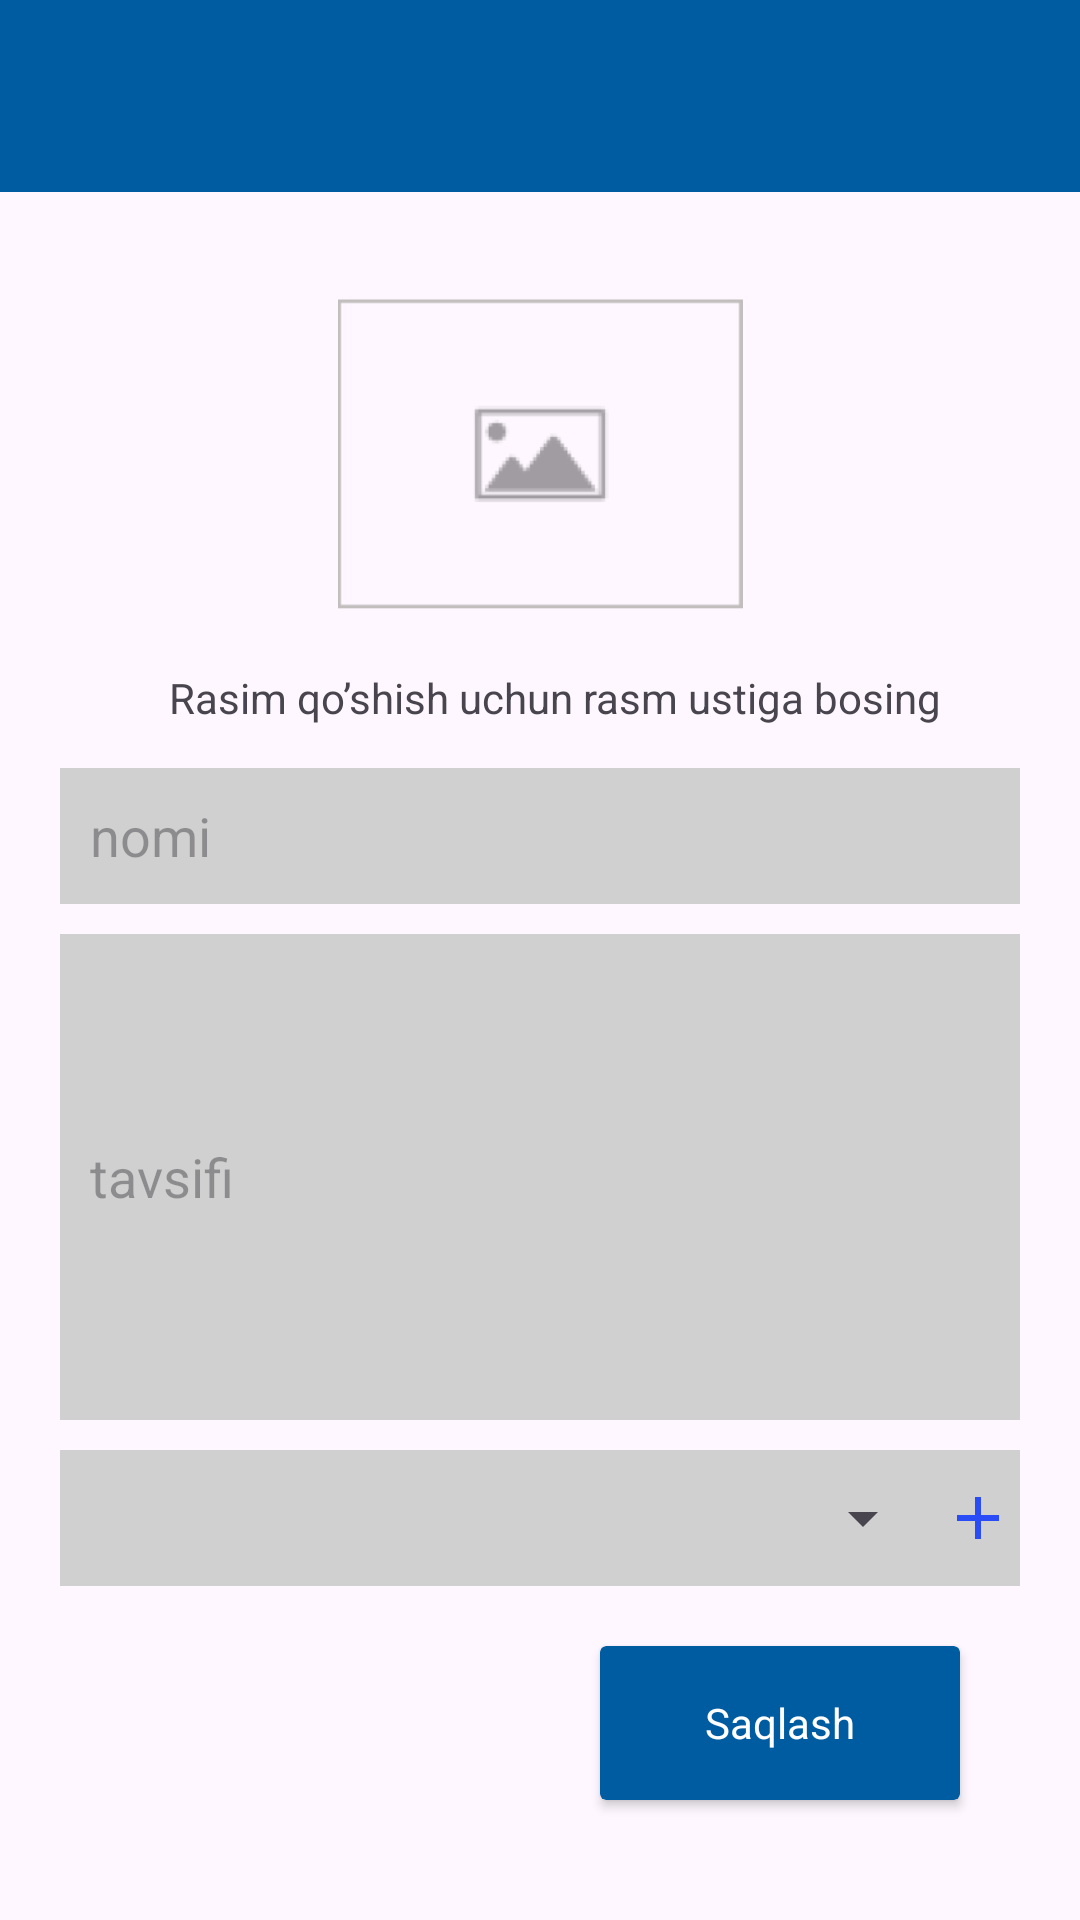

Locate icon controls on the screen. Image size 1080x1920, boxes as (x1, y1, x2, y2).
add: (957, 1497, 999, 1539)
